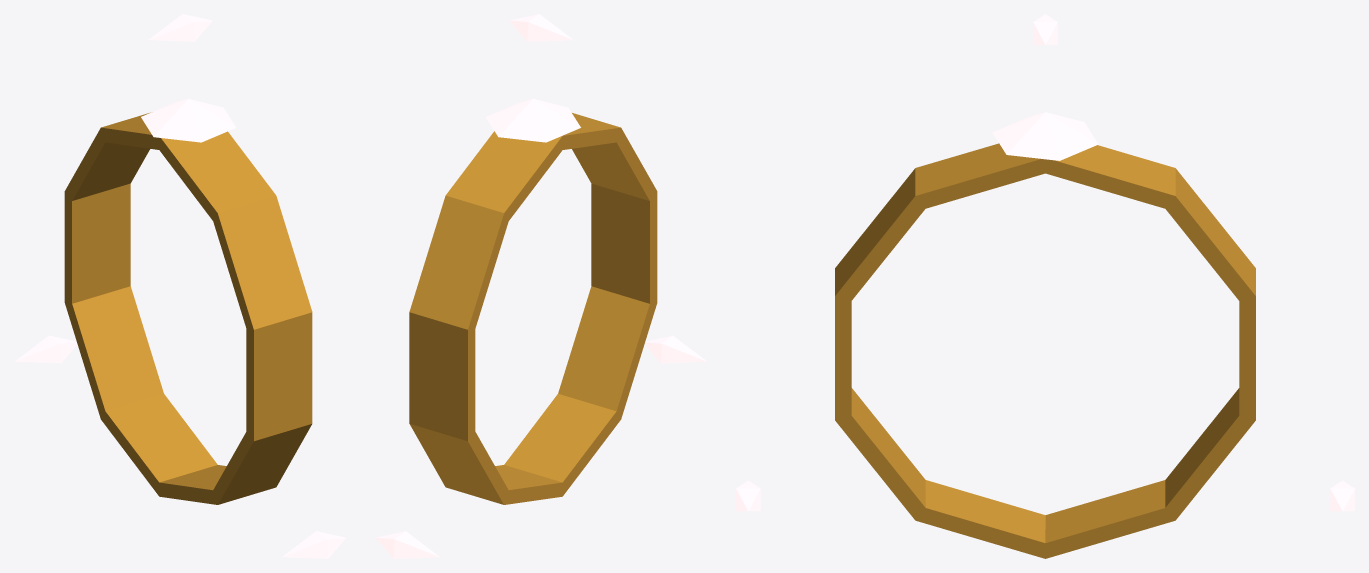
File: armor_ring_mythic_orc.glb
3 renders of one model, left to right at view 1: azimuth 30°, elevation 25°; view 2: azimuth 150°, elevation 25°; view 3: azimuth 270°, elevation 25°, orthographic. The views are drawn at different scales.
Parts seen in each view (by area): view 1: armor_ring_mythic_orc__middle_01_r; view 2: armor_ring_mythic_orc__middle_01_r; view 3: armor_ring_mythic_orc__middle_01_r.
Part boxes in pixels (x1,y1,x2,y2): armor_ring_mythic_orc__middle_01_r: (15, 14, 345, 558); armor_ring_mythic_orc__middle_01_r: (376, 14, 706, 558); armor_ring_mythic_orc__middle_01_r: (736, 14, 1354, 558).
Size of the model in its own units: 3.67 by 19.97 by 21.35.
